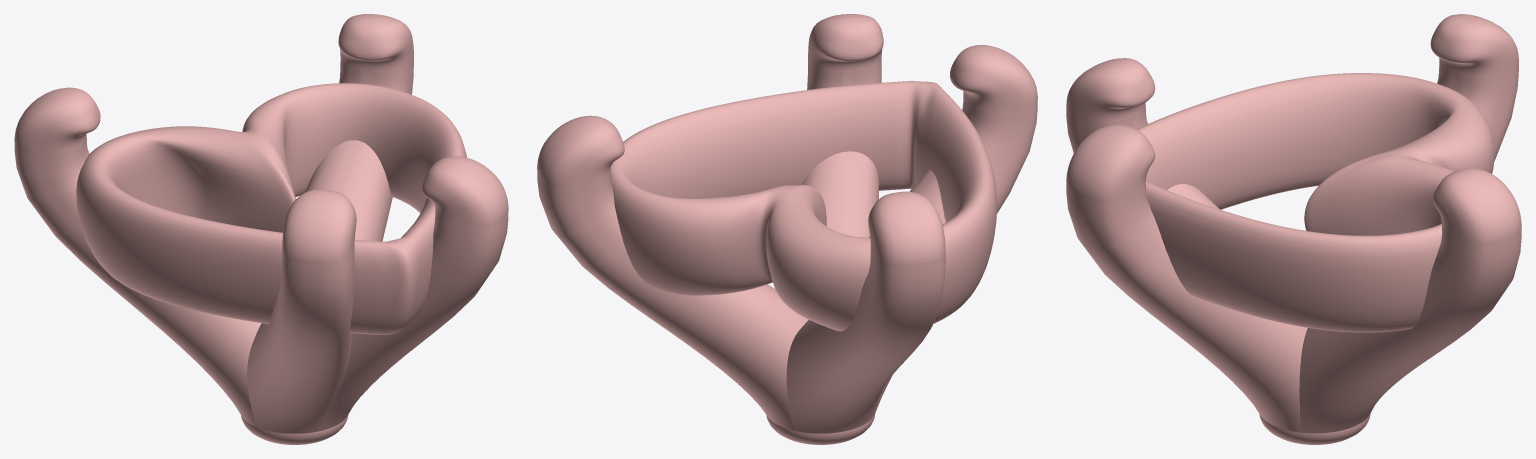
Rendered from HEART.glb.
3 renders of one model, left to right at view 1: azimuth 30°, elevation 25°; view 2: azimuth 150°, elevation 25°; view 3: azimuth 270°, elevation 25°, orthographic. The views are drawn at different scales.
Parts seen in each view (by area): view 1: heart; view 2: heart; view 3: heart.
Boxes of the visible parts, left/top/right/bottom form: heart: left=14, top=14, right=508, bottom=444; heart: left=537, top=14, right=1037, bottom=444; heart: left=1066, top=14, right=1521, bottom=444.
Bounding box in the file's own units: 5.48 × 4.3 × 5.28.
